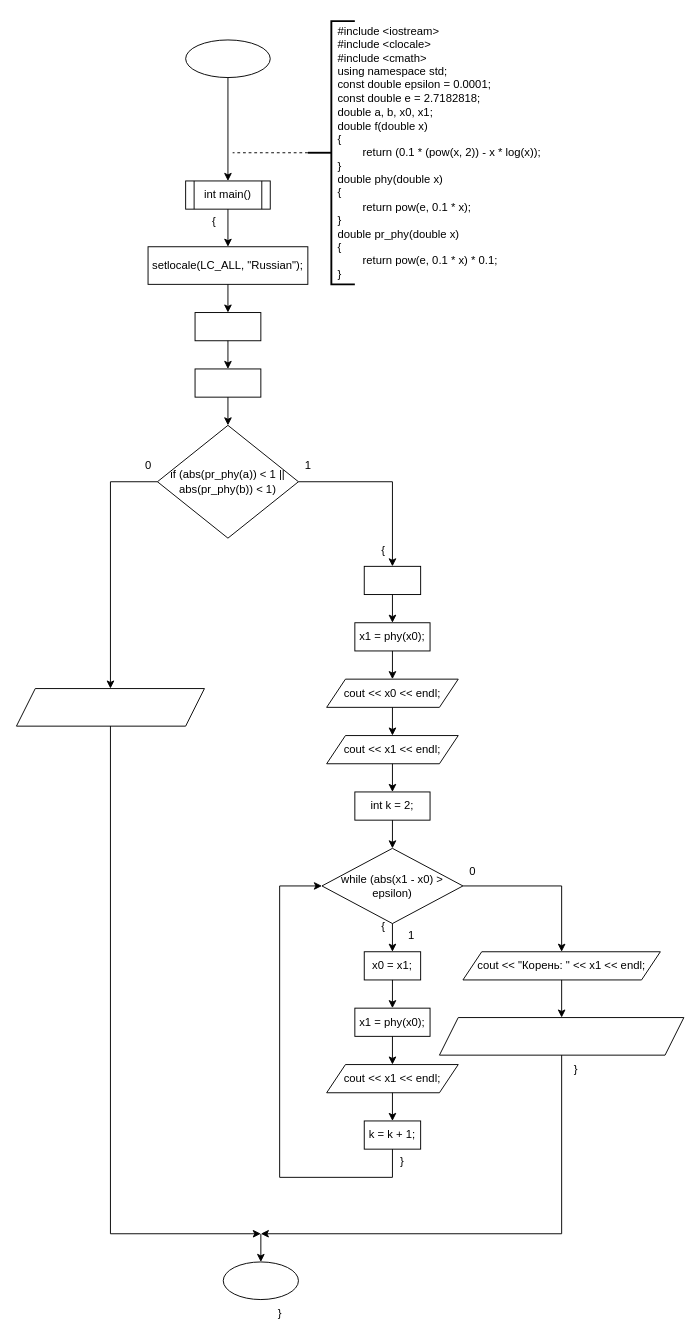
The diagram is 700 pixels wide and 1343 high, and some of its shapes have lost their labels. The centre of each missing label's shape, as x and y in pixels:
a = 1;: [227,326]
b = 2;: [227,382]
cout << "Количество шагов: " << k << endl;: [561,1036]
cout << "Корня не существует";: [110,707]
return 0;: [260,1280]
x0 = b;: [392,580]
Начало: [227,58]
